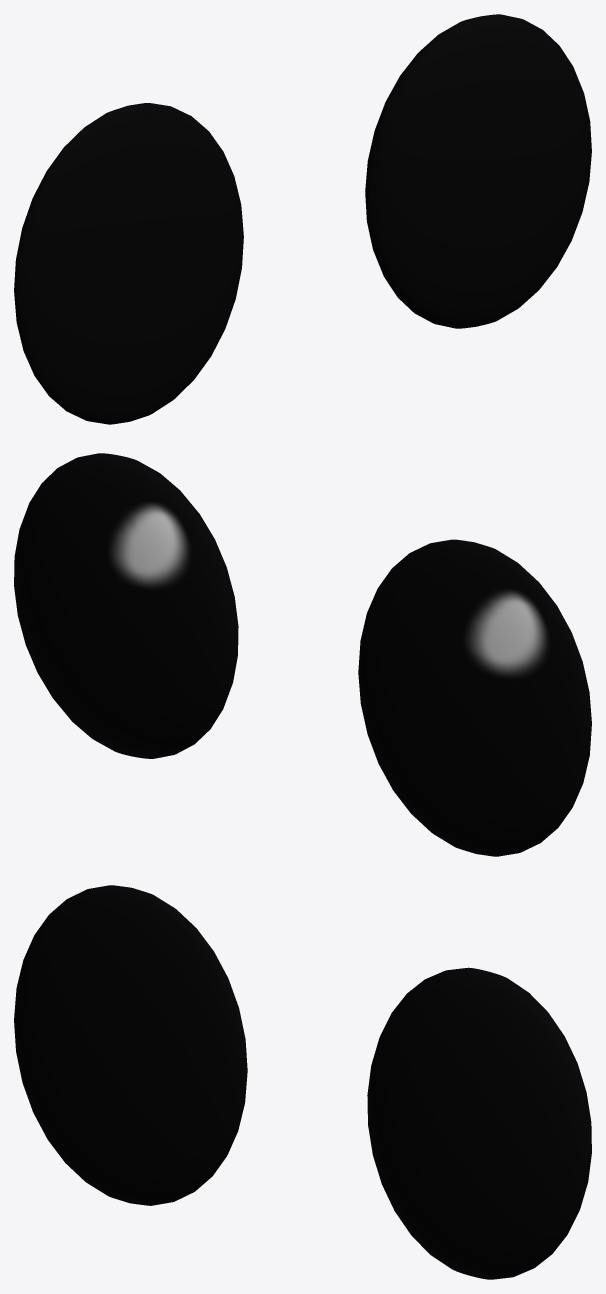
Rendered from eyes.FBX.
The picture shows the model from 3 angles, top to bottom: view 1: azimuth 30°, elevation 25°; view 2: azimuth 150°, elevation 25°; view 3: azimuth 330°, elevation 25°; orthographic projection.
Visible parts, largest first — view 1: Sphere002, Sphere001; view 2: Sphere002, Sphere001; view 3: Sphere002, Sphere001.
Boxes of the visible parts, box(x1,y1,x2,y2) form: Sphere002: box(14, 103, 243, 424); Sphere001: box(365, 14, 591, 328); Sphere002: box(358, 539, 591, 856); Sphere001: box(14, 453, 238, 758); Sphere002: box(14, 885, 247, 1205); Sphere001: box(367, 967, 591, 1279).
Size of the model in its own units: 22.72 by 11.87 by 2.28.
Materials: 1 (1 with a texture image).
